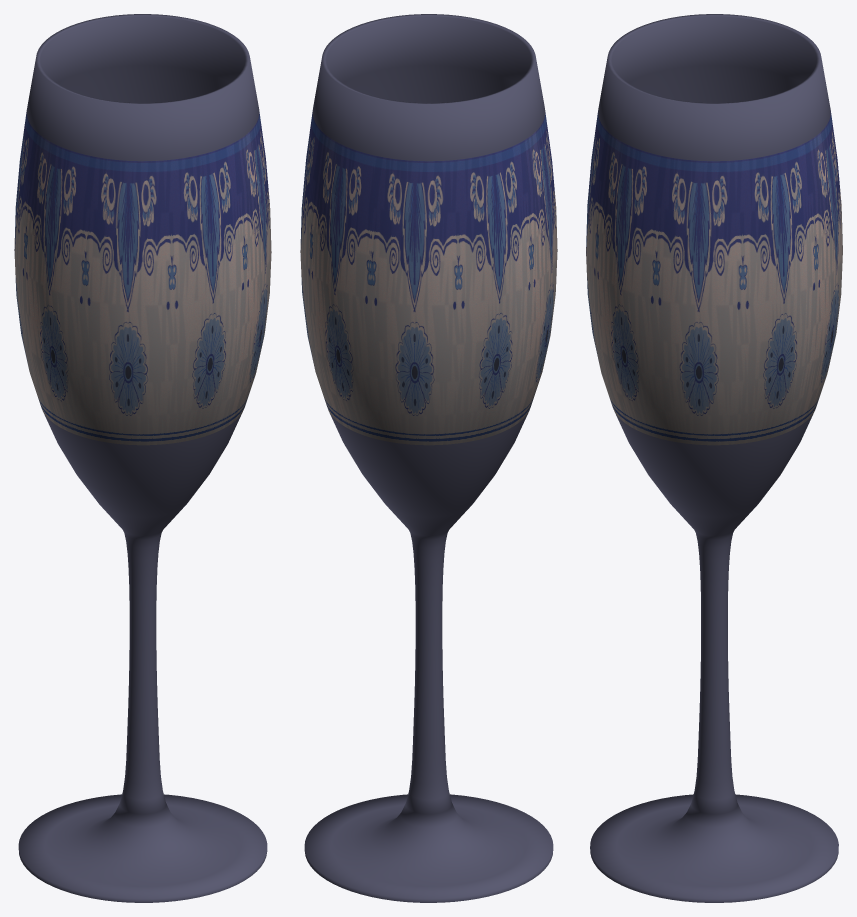
File: ARDelftFlute9.glb
The picture shows the model from 3 angles, left to right: view 1: azimuth 30°, elevation 25°; view 2: azimuth 150°, elevation 25°; view 3: azimuth 270°, elevation 25°; orthographic projection.
Parts seen in each view (by area): view 1: cup2.002; view 2: cup2.002; view 3: cup2.002.
Part boxes in pixels (bbox=[...]): cup2.002: bbox=[14, 14, 271, 902]; cup2.002: bbox=[300, 14, 557, 902]; cup2.002: bbox=[586, 14, 842, 902].
Bounding box in the file's own units: 2.89 × 9.82 × 2.89.
1 material, 1 textured.
